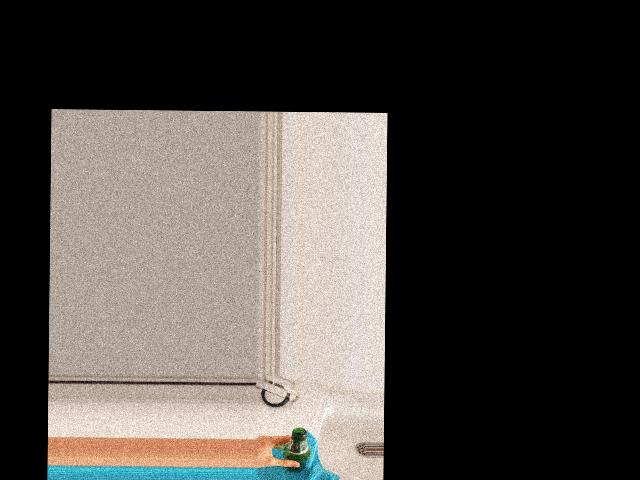beer: (284, 428, 310, 473)
